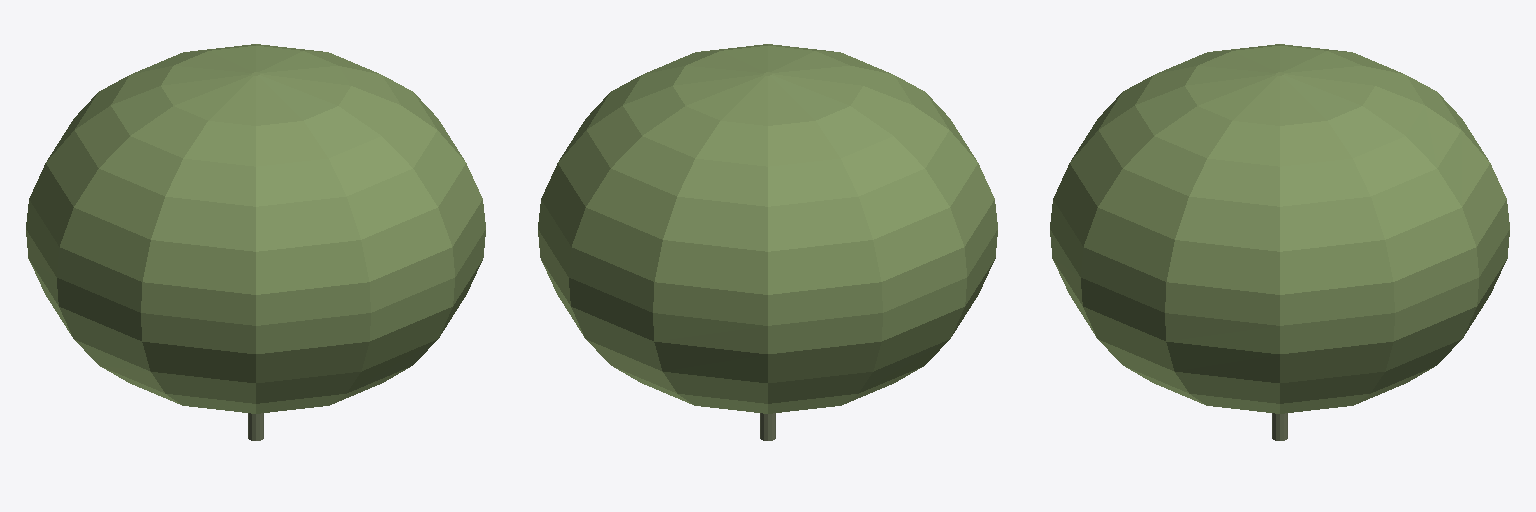
Rendered from Witch_Hazel_Analytical_0.obj.
3 views of the same model, side by side, from view 1: azimuth 30°, elevation 25°; view 2: azimuth 150°, elevation 25°; view 3: azimuth 270°, elevation 25° (orthographic).
Parts seen in each view (by area): view 1: AnalyticalCrown; view 2: AnalyticalCrown; view 3: AnalyticalCrown.
Part boxes in pixels (bbox=[...]): AnalyticalCrown: bbox=[26, 44, 485, 413]; AnalyticalCrown: bbox=[538, 44, 997, 413]; AnalyticalCrown: bbox=[1050, 44, 1509, 413].
Size of the model in its own units: 3.44 by 3 by 3.44.